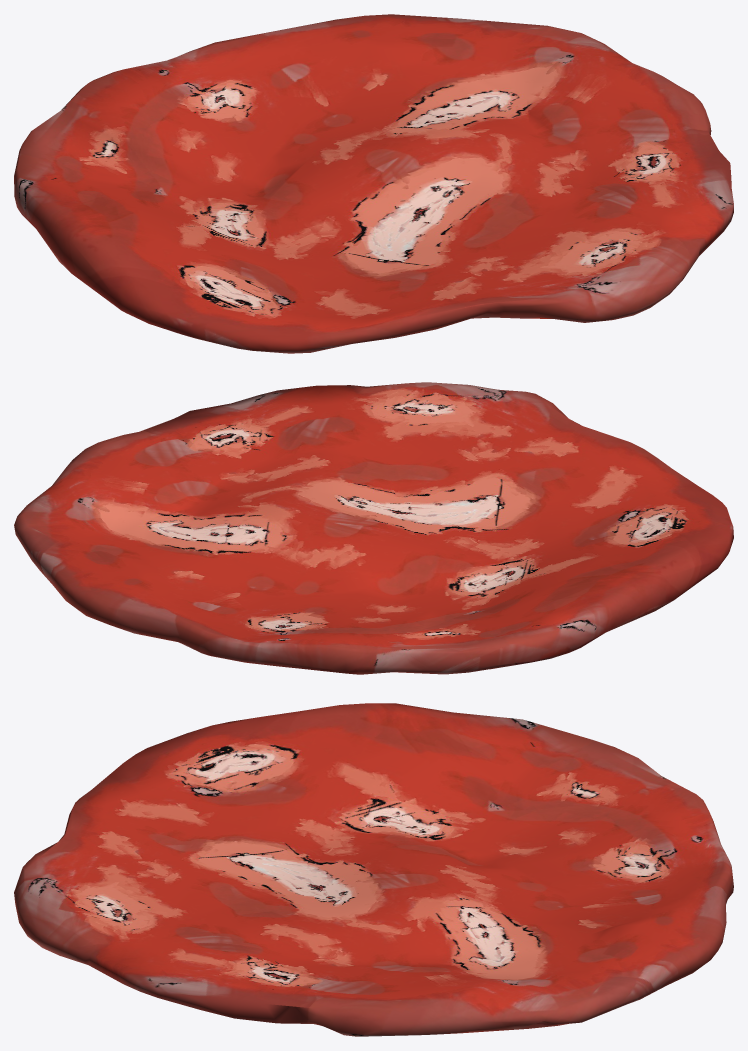
Rendered from Peperoni.fbx.
3 views of the same model, one above another, from view 1: azimuth 30°, elevation 25°; view 2: azimuth 150°, elevation 25°; view 3: azimuth 270°, elevation 25° (orthographic). The views are drawn at different scales.
Visible parts, largest first — view 1: Peperoni_Low; view 2: Peperoni_Low; view 3: Peperoni_Low.
Boxes of the visible parts, x1,y1,x2,y2 form: Peperoni_Low: [14, 14, 733, 353]; Peperoni_Low: [14, 382, 733, 674]; Peperoni_Low: [14, 703, 733, 1036].
Size of the model in its own units: 0.0316 by 0.00393 by 0.0312.
Materials: 1 (1 with a texture image).
